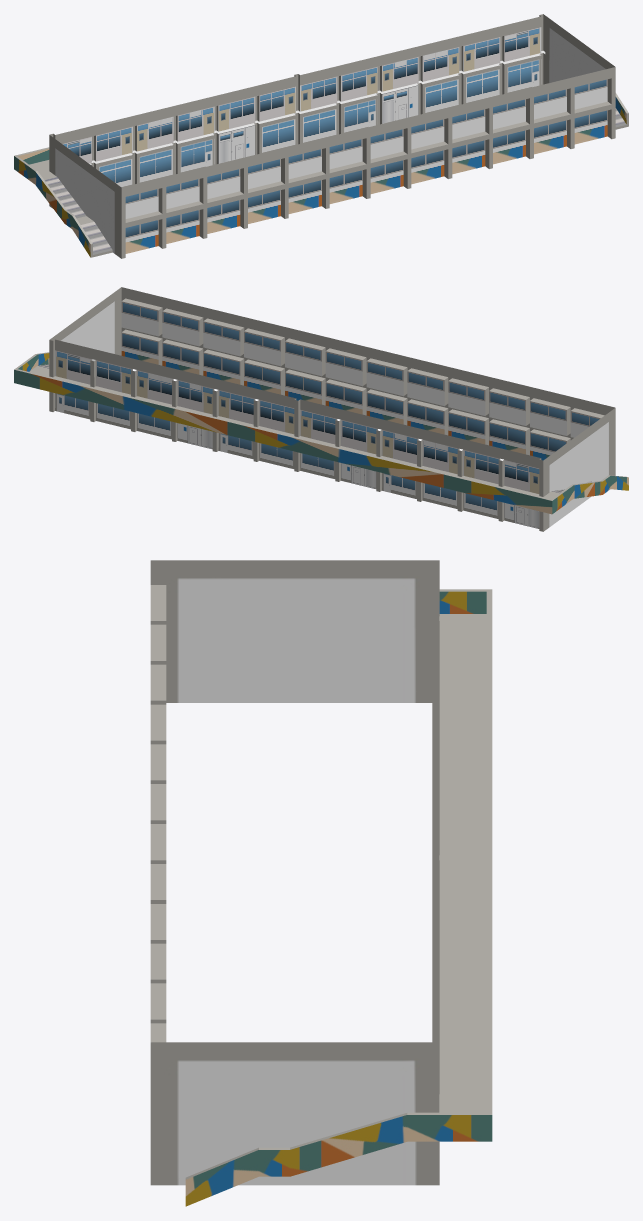
The model's file is edif-23.fbx.
The picture shows the model from 3 angles, top to bottom: view 1: azimuth 30°, elevation 25°; view 2: azimuth 150°, elevation 25°; view 3: azimuth 270°, elevation 25°; orthographic projection. The views are drawn at different scales.
Parts seen in each view (by area): view 1: pabellon16; view 2: pabellon16; view 3: pabellon16.
Part boxes in pixels (x1,y1,x2,y2): pabellon16: (14, 14, 628, 258); pabellon16: (14, 287, 628, 531); pabellon16: (150, 560, 492, 1206).
Size of the model in its own units: 915 by 116 by 252.
